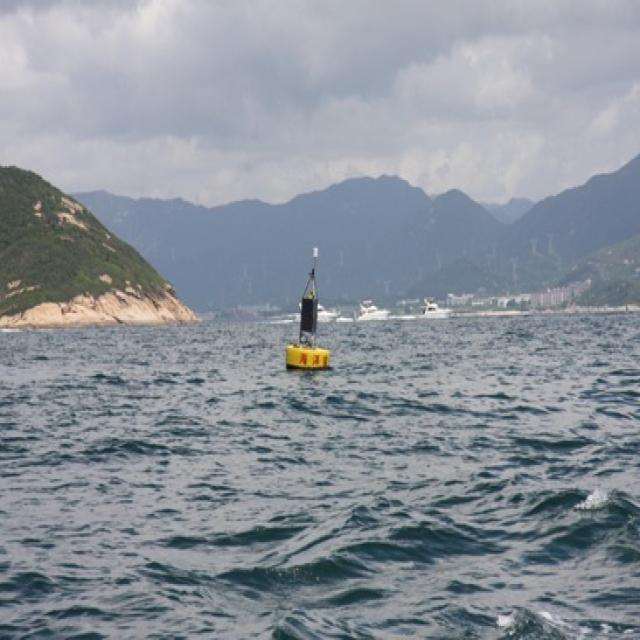buoy: (281, 244, 333, 370)
